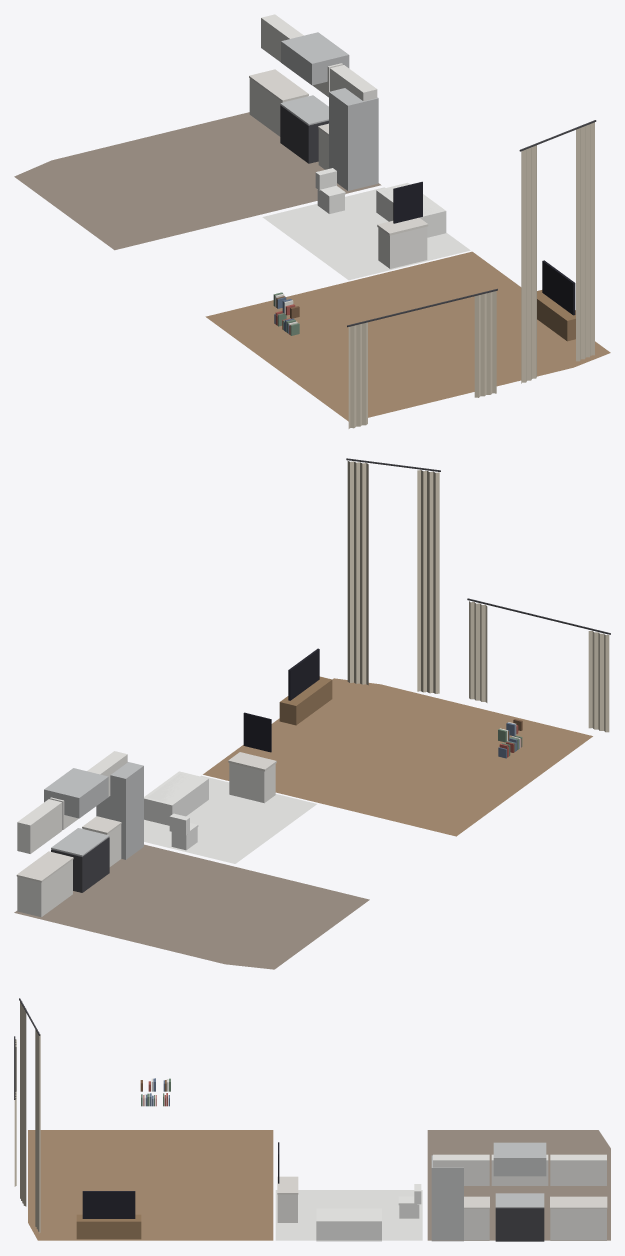
The model's file is fine-s1.glb.
3 renders of one model, top to bottom at view 1: azimuth 30°, elevation 25°; view 2: azimuth 150°, elevation 25°; view 3: azimuth 270°, elevation 25°, orthographic. The views are drawn at different scales.
Parts seen in each view (by area): view 1: soft-s1, range.000, fridge.000, vanity.000, tv-console.001, counter-run.000, bathtub.000, kitchen-upper.000, toilet.000, kitchen-upper.002; view 2: soft-s1, range.000, vanity.000, fridge.000, counter-run.000, tv-console.001, bathtub.000, kitchen-upper.000, counter-run.001, toilet.000; view 3: soft-s1, range.000, tv-console.001, counter-run.000, fridge.000, bathtub.000, kitchen-upper.000, kitchen-upper.002, counter-run.001, vanity.000, kitchen-upper.001, toilet.000.
Part boxes in pixels (x1=…): soft-s1: x1=14, y1=112, x2=610, y2=428; range.000: x1=280, y1=32, x2=349, y2=163; fridge.000: x1=329, y1=88, x2=378, y2=190; vanity.000: x1=377, y1=181, x2=428, y2=268; tv-console.001: x1=537, y1=260, x2=575, y2=341; counter-run.000: x1=249, y1=69, x2=308, y2=136; bathtub.000: x1=376, y1=182, x2=446, y2=237; kitchen-upper.000: x1=261, y1=14, x2=303, y2=62; toilet.000: x1=315, y1=168, x2=345, y2=213; kitchen-upper.002: x1=330, y1=65, x2=377, y2=101; soft-s1: x1=14, y1=458, x2=610, y2=969; range.000: x1=44, y1=768, x2=109, y2=892; vanity.000: x1=228, y1=712, x2=276, y2=803; fridge.000: x1=96, y1=762, x2=143, y2=859; counter-run.000: x1=16, y1=851, x2=73, y2=917; tv-console.001: x1=279, y1=648, x2=332, y2=725; bathtub.000: x1=144, y1=771, x2=208, y2=825; kitchen-upper.000: x1=17, y1=799, x2=62, y2=853; counter-run.001: x1=82, y1=816, x2=121, y2=866; toilet.000: x1=169, y1=813, x2=198, y2=850; soft-s1: x1=14, y1=998, x2=610, y2=1240; range.000: x1=493, y1=1142, x2=546, y2=1241; tv-console.001: x1=76, y1=1191, x2=141, y2=1239; counter-run.000: x1=550, y1=1196, x2=607, y2=1240; fridge.000: x1=431, y1=1155, x2=463, y2=1241; bathtub.000: x1=316, y1=1208, x2=381, y2=1241; kitchen-upper.000: x1=550, y1=1154, x2=606, y2=1185; kitchen-upper.002: x1=433, y1=1154, x2=489, y2=1185; counter-run.001: x1=464, y1=1196, x2=489, y2=1240; vanity.000: x1=277, y1=1142, x2=298, y2=1222; kitchen-upper.001: x1=491, y1=1154, x2=548, y2=1185; toilet.000: x1=398, y1=1184, x2=421, y2=1218.
Bounding box in the file's own units: 6.88 × 5.48 × 14.75.
